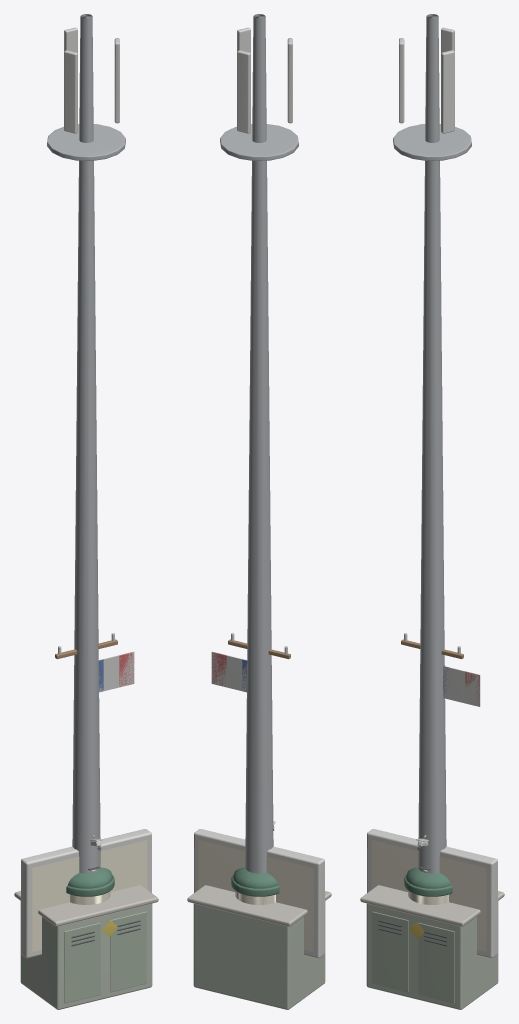
Rendered from equipment.glb.
3 renders of one model, left to right at view 1: azimuth 30°, elevation 25°; view 2: azimuth 150°, elevation 25°; view 3: azimuth 330°, elevation 25°, orthographic.
Parts seen in each view (by area): view 1: mast, substation_kiosk, billboard, advert_column, flagpole, flagpole_fr; view 2: mast, substation_kiosk, billboard, advert_column, flagpole, flagpole_fr; view 3: mast, substation_kiosk, billboard, advert_column, flagpole, flagpole_fr.
Part boxes in pixels (left/top/right/bottom): mast: left=47, top=14, right=125, bottom=873; substation_kiosk: left=14, top=885, right=158, bottom=1009; billboard: left=21, top=829, right=151, bottom=958; advert_column: left=66, top=867, right=114, bottom=904; flagpole: left=99, top=651, right=134, bottom=692; flagpole_fr: left=98, top=652, right=134, bottom=691; mast: left=220, top=14, right=298, bottom=873; substation_kiosk: left=187, top=885, right=331, bottom=1009; billboard: left=194, top=829, right=324, bottom=958; advert_column: left=231, top=867, right=279, bottom=904; flagpole: left=211, top=651, right=246, bottom=692; flagpole_fr: left=211, top=652, right=247, bottom=691; mast: left=393, top=14, right=471, bottom=873; substation_kiosk: left=360, top=885, right=504, bottom=1009; billboard: left=367, top=829, right=497, bottom=958; advert_column: left=404, top=867, right=452, bottom=904; flagpole: left=443, top=666, right=480, bottom=706; flagpole_fr: left=443, top=666, right=479, bottom=704.
Bounding box in the file's own units: 3.3 × 24.3 × 1.9.
